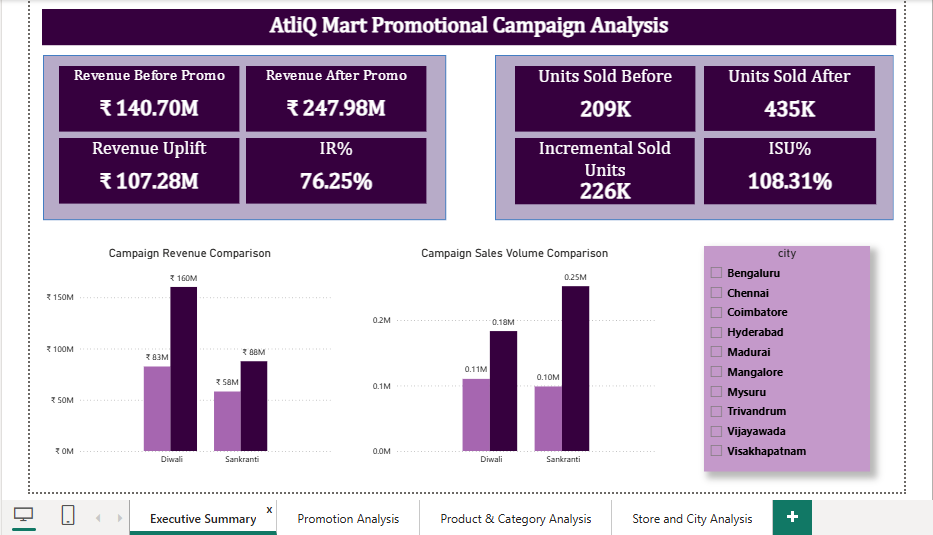

This screenshot's page, from the dashboard's own definition file:
{"tool":"powerbi","page":{"name":"Executive Summary","canvas":[1280,720],"ordinal":0},"visuals":[{"type":"shape","box":[680,80,583.3,241.7],"z":0},{"type":"shape","box":[18.3,80,590,241.7],"z":500},{"type":"card","title":"Revenue Before Promo","fields":{"Values":["fact_events.Total Revenue Before"]},"box":[42,96,264,96],"z":1000},{"type":"card","title":"Revenue After Promo","fields":{"Values":["fact_events.Total Revenue After"]},"box":[316,96,264,96],"z":2000},{"type":"card","title":"Revenue Uplift","fields":{"Values":["fact_events.Total IR"]},"box":[42,202,264,96],"z":3000},{"type":"card","title":"IR%","fields":{"Values":["fact_events.Incremental Revenue %"]},"box":[316,202,264,96],"z":4000},{"type":"card","title":"Units Sold Before","fields":{"Values":["fact_events.Total Units Before"]},"box":[710,96,264,96],"z":5000},{"type":"card","title":"Units Sold After","fields":{"Values":["fact_events.Total Units After"]},"box":[986.7,96.7,250,95],"z":6000},{"type":"card","title":"Incremental Sold Units","fields":{"Values":["fact_events.Total ISU"]},"box":[710,201.7,263.3,96.7],"z":7000},{"type":"card","title":"ISU%","fields":{"Values":["fact_events.Incremetal Sold Units%"]},"box":[986.7,201.7,251.7,96.7],"z":8000},{"type":"clusteredColumnChart","title":"Campaign Revenue Comparison","fields":{"Category":["dim_campaigns.campaign_name"],"Y":["fact_events.Total Revenue Before","fact_events.Total Revenue After"]},"box":[18.3,360,430,330],"z":9000},{"type":"clusteredColumnChart","title":"Campaign Sales Volume Comparison","fields":{"Category":["dim_campaigns.campaign_name"],"Y":["fact_events.Total Units Before","fact_events.Total Units After"]},"box":[496.7,360,426.7,330],"z":10000},{"type":"slicer","title":"city","fields":{"Values":["dim_stores.city"]},"box":[986.7,360,243.3,330],"z":11000},{"type":"textbox","box":[17.1,12.9,1250,52.9],"z":12000}]}

Visuals, with their boxes on the page's 1280x720 design canvas (x1, y1, x2, y2). These are canvas units, not pixel positions in the 933x535 screenshot, which may show the page scaled, cropped or inside an application window:
shape: bbox=(680, 80, 1263, 322)
shape: bbox=(18, 80, 608, 322)
"Revenue Before Promo" card: bbox=(42, 96, 306, 192)
"Revenue After Promo" card: bbox=(316, 96, 580, 192)
"Revenue Uplift" card: bbox=(42, 202, 306, 298)
"IR%" card: bbox=(316, 202, 580, 298)
"Units Sold Before" card: bbox=(710, 96, 974, 192)
"Units Sold After" card: bbox=(987, 97, 1237, 192)
"Incremental Sold Units" card: bbox=(710, 202, 973, 298)
"ISU%" card: bbox=(987, 202, 1238, 298)
"Campaign Revenue Comparison" clusteredColumnChart: bbox=(18, 360, 448, 690)
"Campaign Sales Volume Comparison" clusteredColumnChart: bbox=(497, 360, 923, 690)
"city" slicer: bbox=(987, 360, 1230, 690)
textbox: bbox=(17, 13, 1267, 66)
